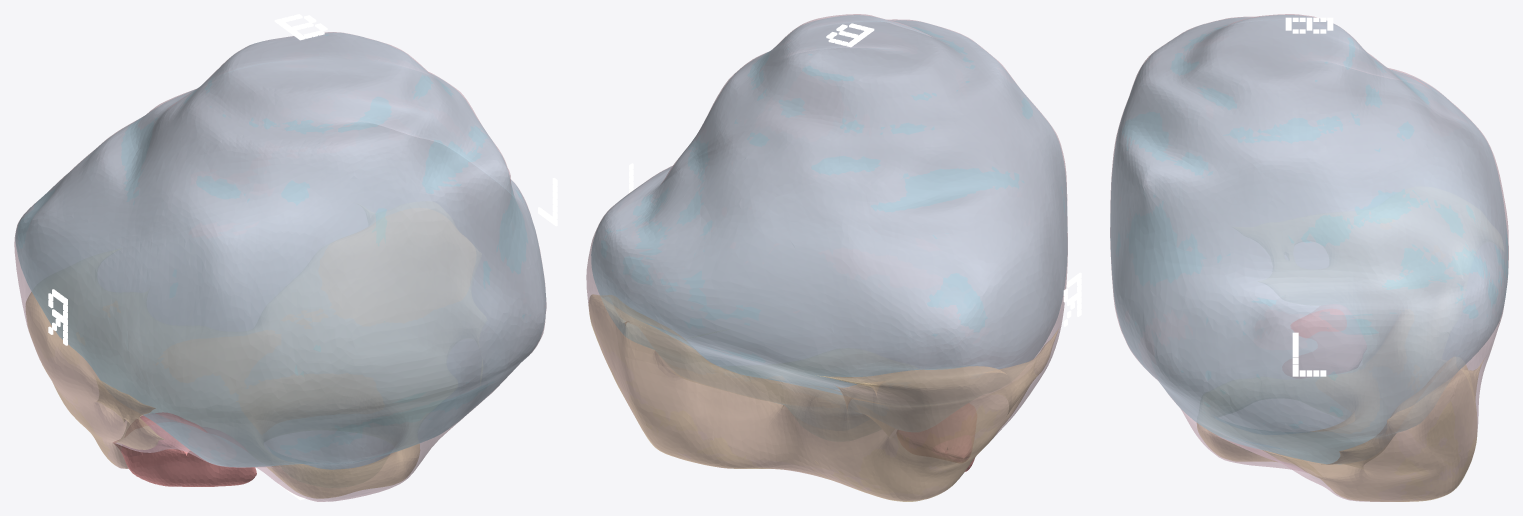
The picture shows the model from 3 angles, left to right: view 1: azimuth 30°, elevation 25°; view 2: azimuth 150°, elevation 25°; view 3: azimuth 270°, elevation 25°; orthographic projection. The views are drawn at different scales.
Parts seen in each view (by area): view 1: prostate_gland, transition_zone, peripheral_zone, lesion_01, pv_ar_marker_B, pv_ar_marker_R; view 2: prostate_gland, transition_zone, peripheral_zone, lesion_01, pv_ar_marker_B; view 3: prostate_gland, transition_zone, peripheral_zone, lesion_01, pv_ar_marker_B, pv_ar_marker_L.
Boxes of the visible parts, box(x1,y1,x2,y2) form: prostate_gland: box(14, 32, 546, 501); transition_zone: box(15, 32, 545, 469); peripheral_zone: box(25, 233, 467, 498); lesion_01: box(113, 412, 256, 486); pv_ar_marker_B: box(274, 14, 327, 40); pv_ar_marker_R: box(48, 289, 67, 345); prostate_gland: box(586, 14, 1067, 500); transition_zone: box(591, 15, 1067, 413); peripheral_zone: box(589, 294, 1058, 501); lesion_01: box(897, 404, 976, 471); pv_ar_marker_B: box(826, 23, 874, 47); prostate_gland: box(1110, 14, 1508, 501); transition_zone: box(1110, 15, 1507, 463); peripheral_zone: box(1197, 357, 1483, 501); lesion_01: box(1282, 304, 1366, 378); pv_ar_marker_B: box(1285, 17, 1333, 33); pv_ar_marker_L: box(1292, 332, 1326, 376).
Bounding box in the file's own units: 0.063 × 0.0566 × 0.0471.
